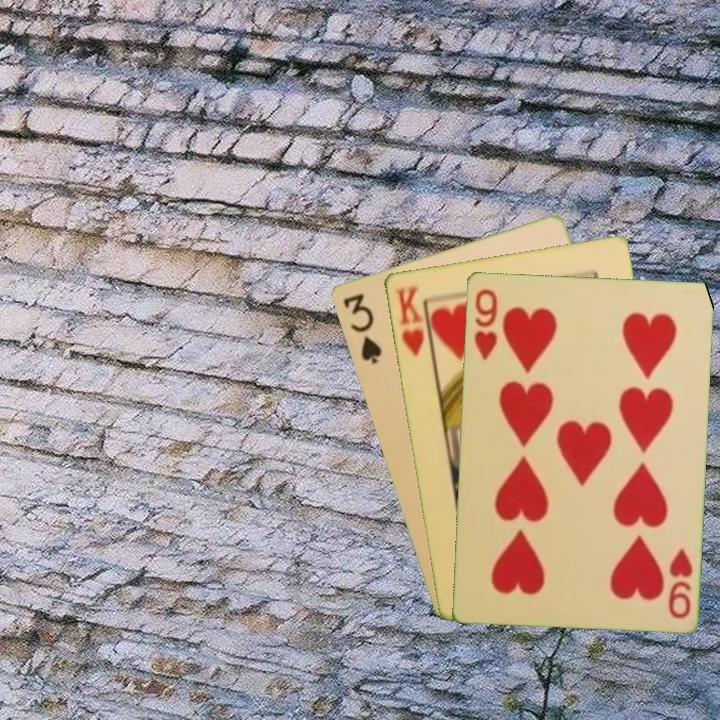3s: (339, 289, 384, 367)
9h: (664, 544, 695, 621), (470, 285, 500, 363)
Kh: (391, 283, 434, 362)
